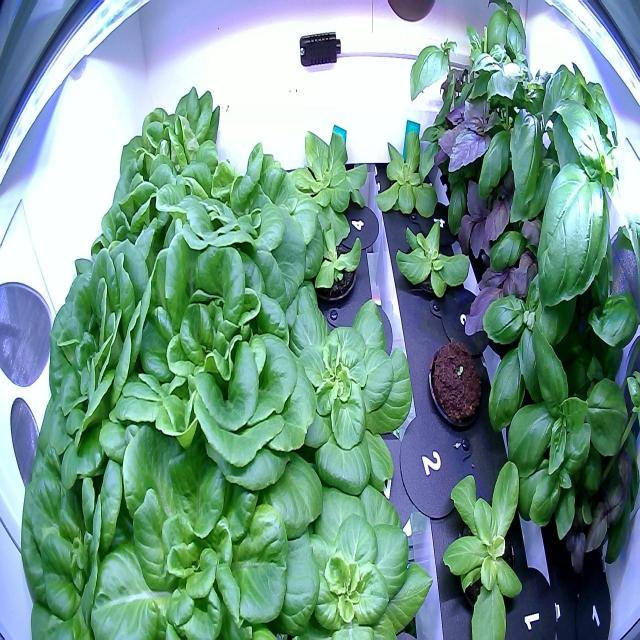Ready: (86, 400, 330, 640), (118, 247, 319, 472), (31, 232, 175, 472), (155, 137, 322, 340), (12, 427, 164, 639), (80, 168, 188, 318), (105, 84, 221, 206)
germination: (423, 330, 493, 436)
young: (283, 297, 418, 499), (276, 473, 436, 640), (436, 458, 542, 640), (282, 117, 377, 246), (369, 113, 453, 229), (390, 210, 478, 319), (308, 218, 370, 303)
